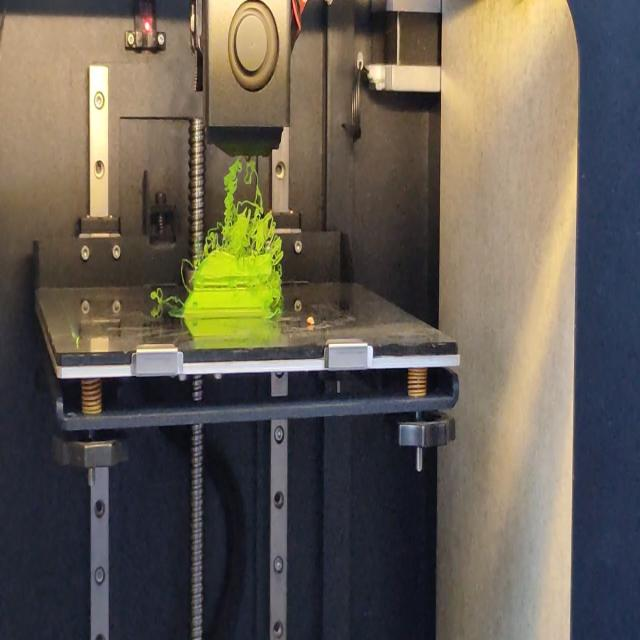spaghetti: (201, 155, 281, 257), (273, 254, 285, 318), (149, 289, 185, 309), (181, 258, 191, 279)
